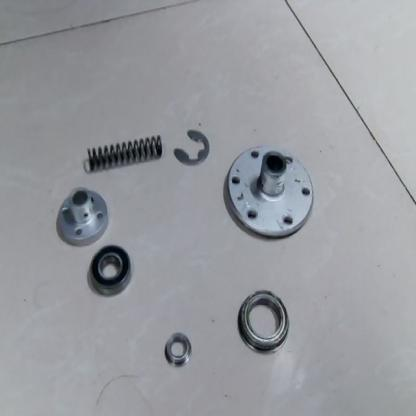FOD: (223, 142, 315, 240), (235, 291, 291, 356), (53, 186, 110, 247), (85, 134, 163, 172), (88, 240, 133, 298), (173, 128, 211, 168), (164, 329, 194, 369)
